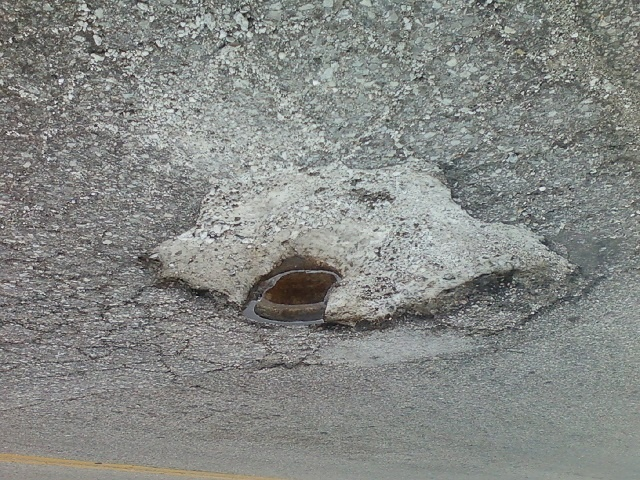pothole: (136, 148, 581, 326)
